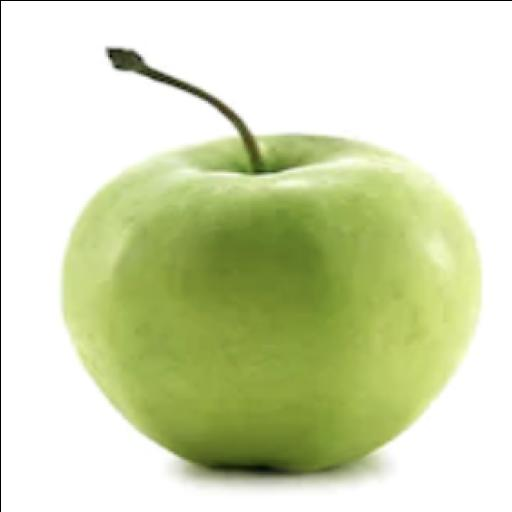apple: (62, 50, 479, 470)
